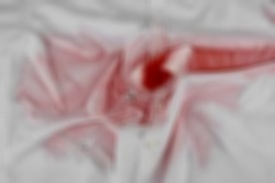wine: (28, 82, 123, 111), (184, 45, 273, 69), (55, 48, 108, 88)
